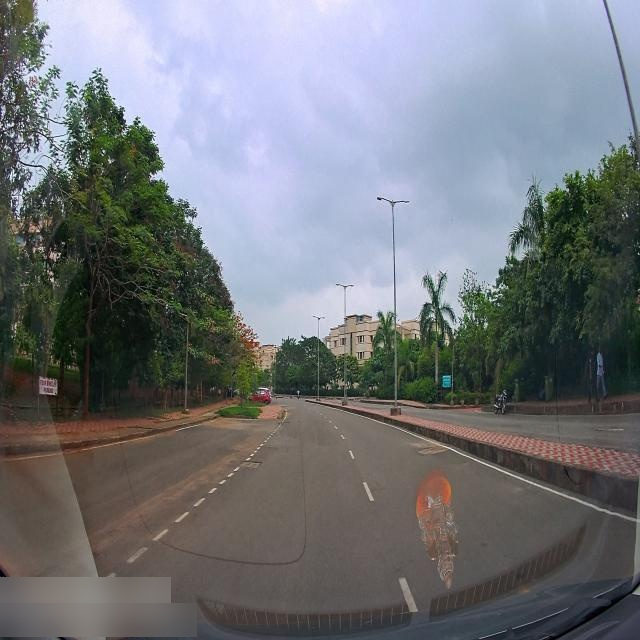pothole: (239, 452, 265, 484), (276, 412, 295, 432)
